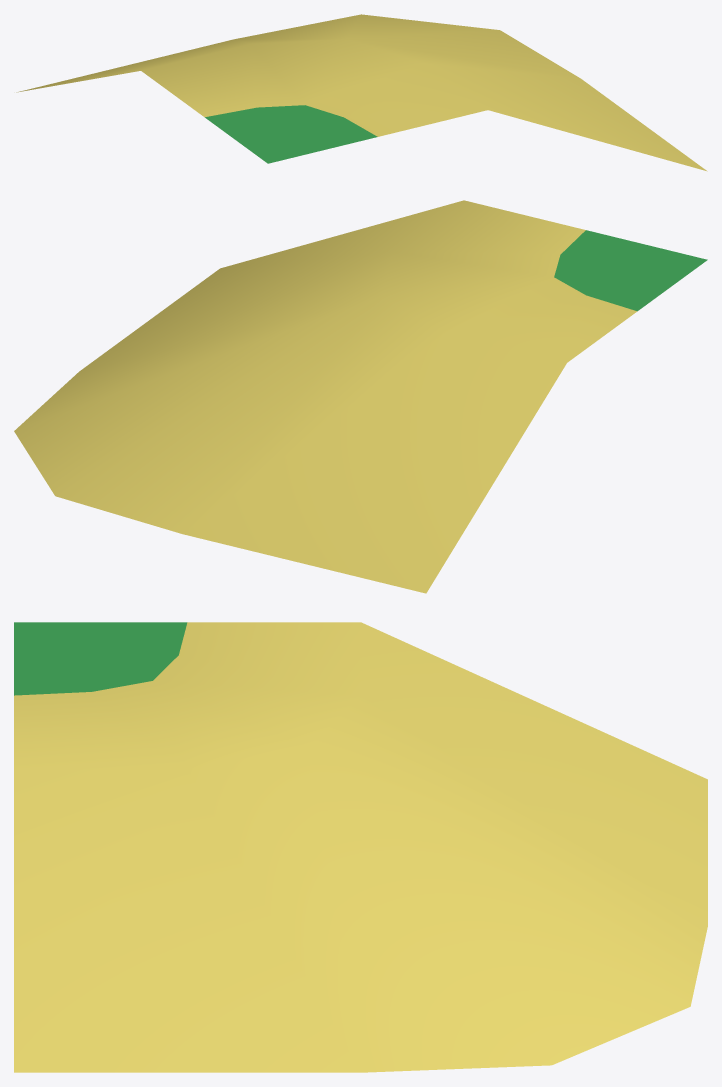
The model's file is Coast_OuterBend.fbx.
3 views of the same model, one above another, from view 1: azimuth 30°, elevation 25°; view 2: azimuth 150°, elevation 25°; view 3: azimuth 270°, elevation 25° (orthographic). The views are drawn at different scales.
Visible parts, largest first — view 1: Coast_OuterBend.001; view 2: Coast_OuterBend.001; view 3: Coast_OuterBend.001.
Boxes of the visible parts, box(x1,y1,x2,y2) form: Coast_OuterBend.001: box(16, 14, 707, 171); Coast_OuterBend.001: box(14, 200, 707, 593); Coast_OuterBend.001: box(14, 622, 707, 1072).
Size of the model in its own units: 10 by 10 by 2.5.
